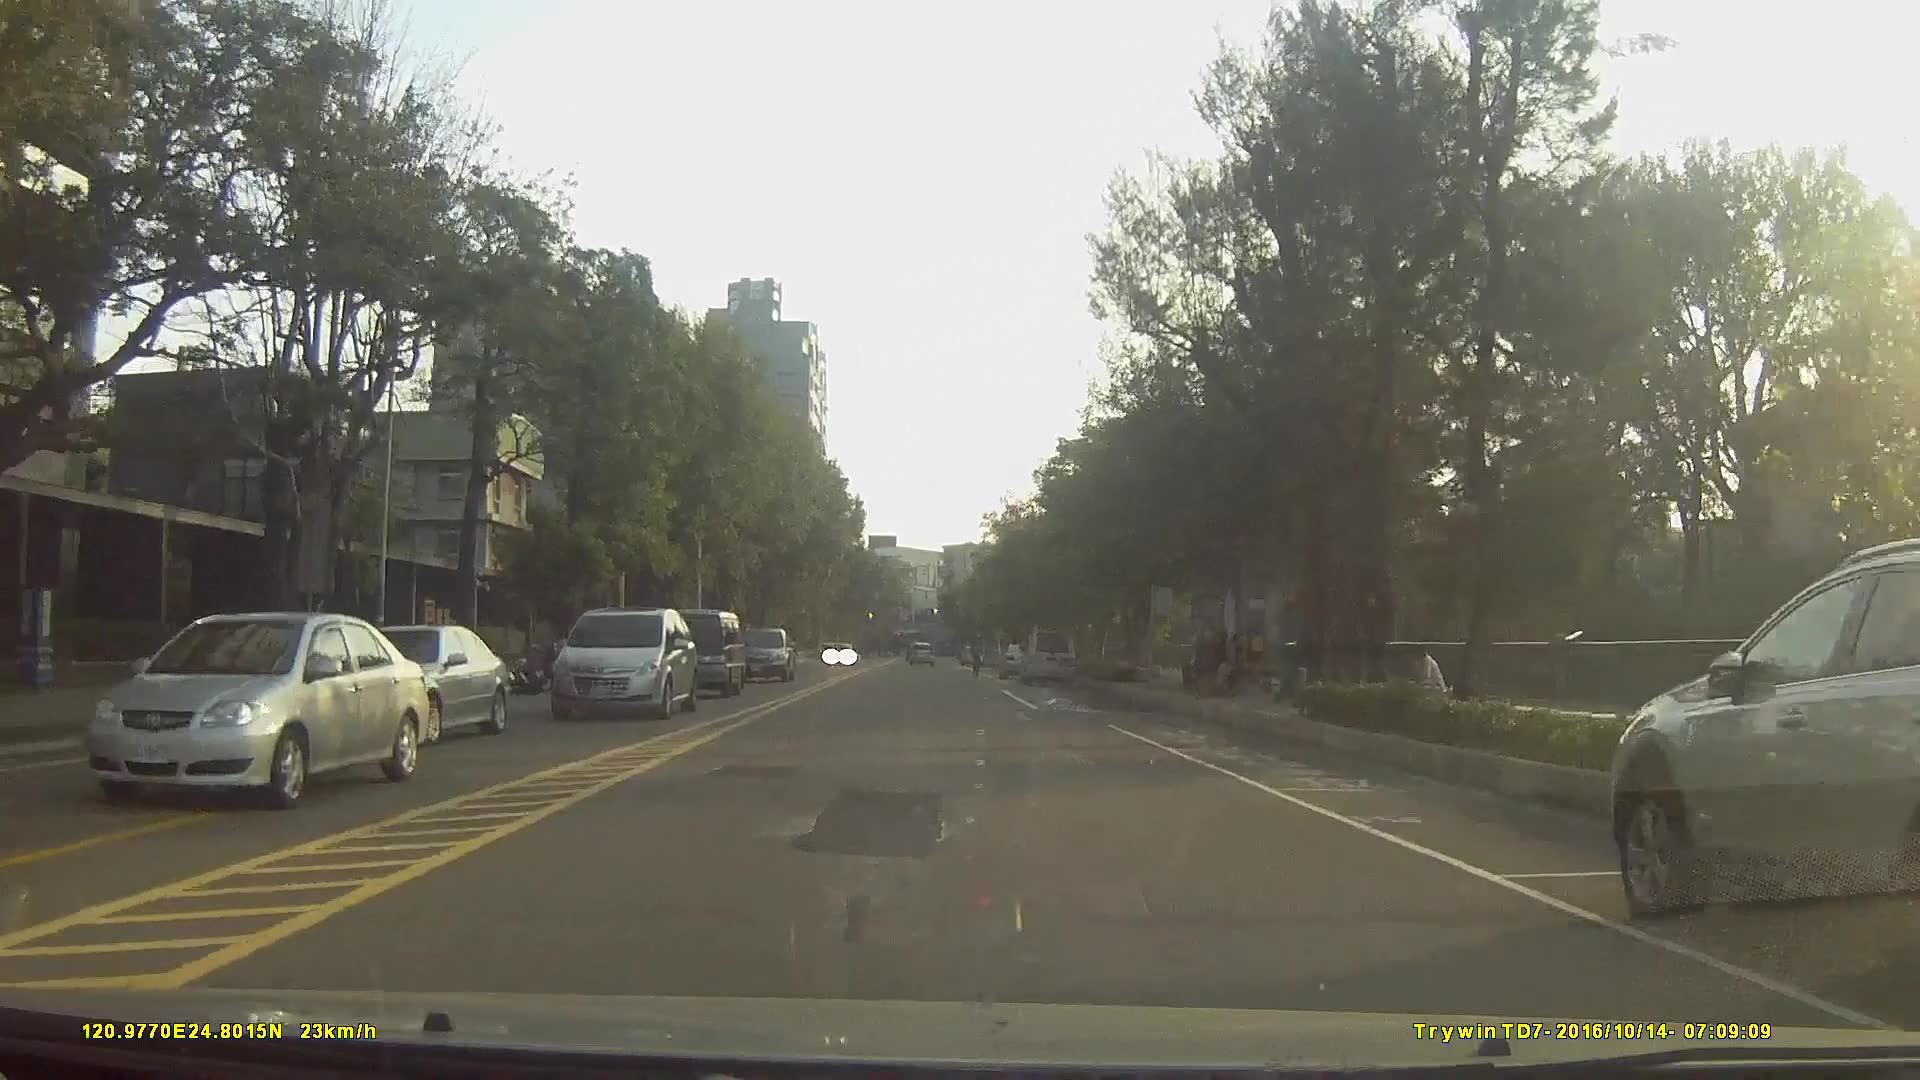rider: (967, 634, 987, 680)
vehicle: (1612, 546, 1920, 982), (87, 608, 433, 809), (335, 622, 508, 745), (544, 605, 697, 719), (647, 604, 743, 694), (1017, 625, 1077, 686), (732, 624, 795, 679), (996, 639, 1034, 679), (906, 638, 934, 664)
